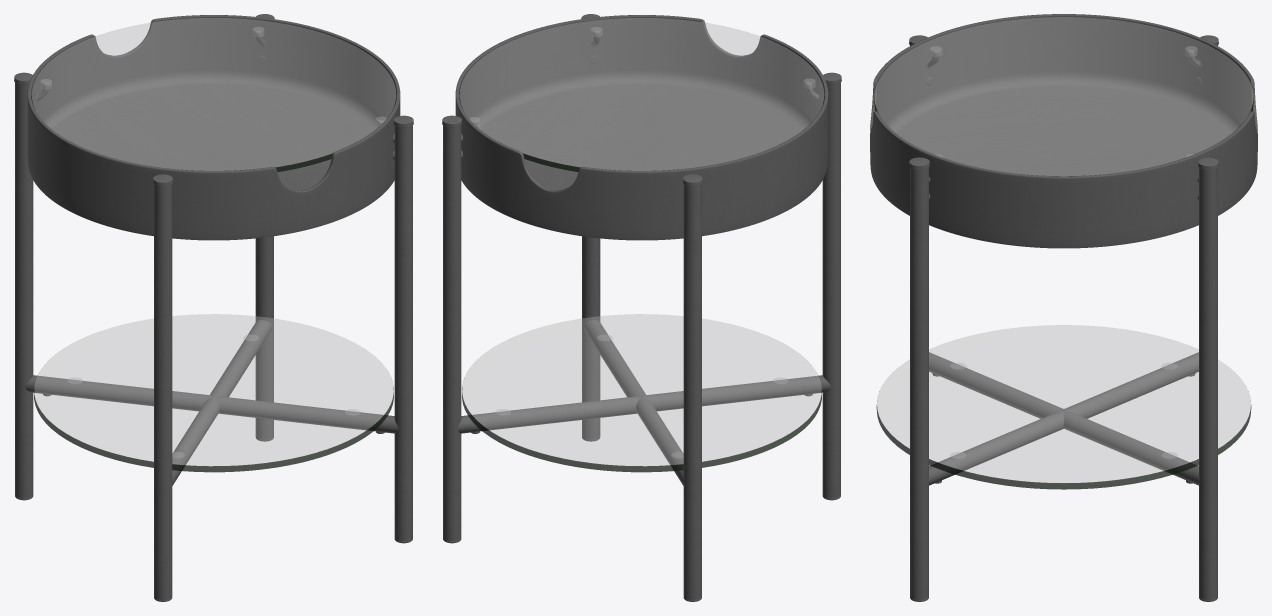
The model's file is blackTable.glb.
3 renders of one model, left to right at view 1: azimuth 30°, elevation 25°; view 2: azimuth 150°, elevation 25°; view 3: azimuth 270°, elevation 25°, orthographic. The views are drawn at different scales.
Visible parts, largest first — view 1: DEQ20ACT49814_153858.002, DEQ20ACT49814_153858.001; view 2: DEQ20ACT49814_153858.002, DEQ20ACT49814_153858.001; view 3: DEQ20ACT49814_153858.002, DEQ20ACT49814_153858.001.
Boxes of the visible parts, x1,y1,x2,y2 form: DEQ20ACT49814_153858.002: (14, 14, 413, 601); DEQ20ACT49814_153858.001: (31, 18, 396, 472); DEQ20ACT49814_153858.002: (442, 14, 841, 601); DEQ20ACT49814_153858.001: (459, 18, 824, 472); DEQ20ACT49814_153858.002: (870, 14, 1257, 601); DEQ20ACT49814_153858.001: (874, 17, 1253, 489).
Size of the model in its own units: 0.3975 by 0.4994 by 0.3975.
Materials: 2 (2 with a texture image).
